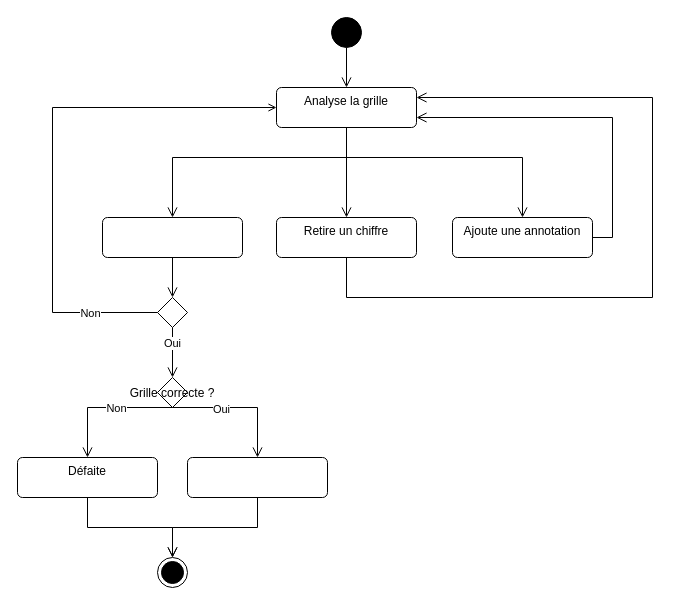
This 680x605 diagram has some shape labels left out. The shapes that lost their labels are listed below. From the top down, each one's box as (x1, y1, x2, y2) in pixels, then its label:
(102, 216, 242, 258): Place un chiffre
(156, 296, 188, 328): Grille remplie ?
(186, 456, 328, 498): Victoire
